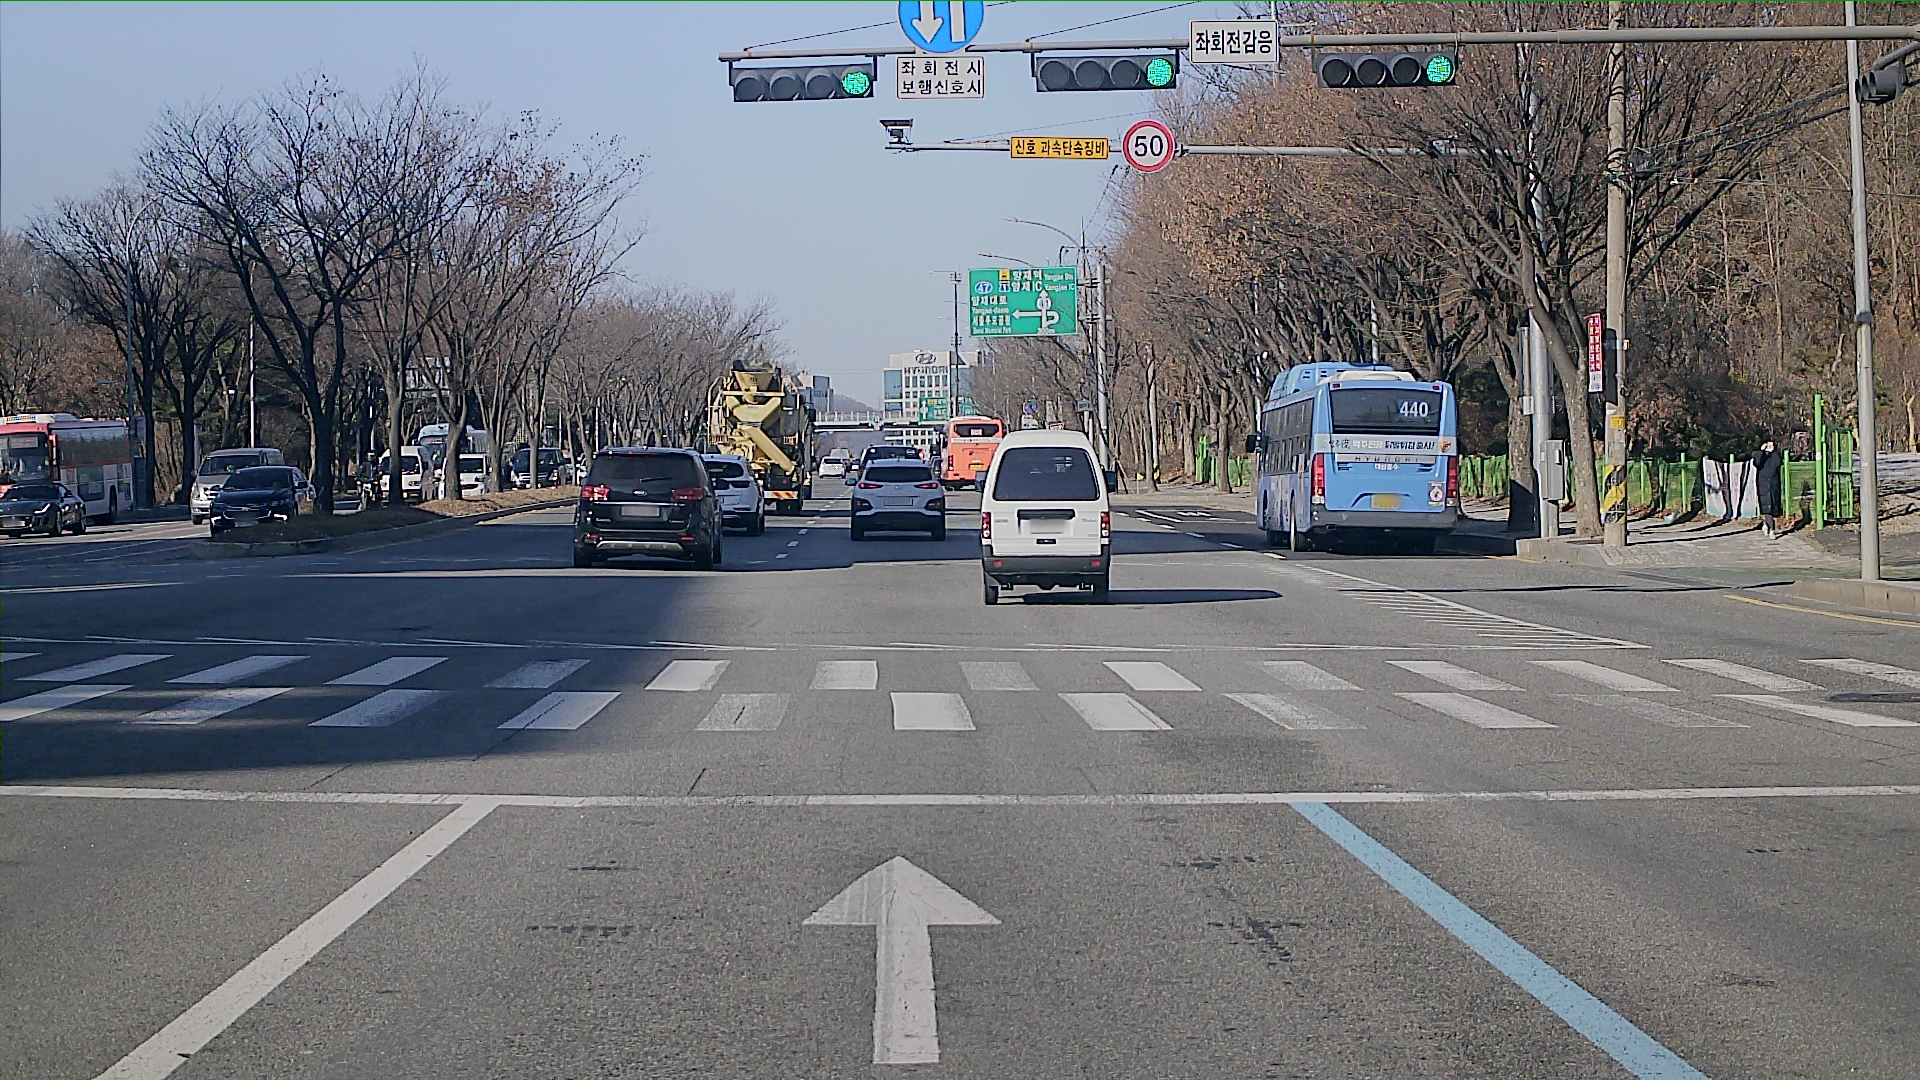trafficLight: (723, 53, 882, 102), (1029, 50, 1184, 94), (1312, 44, 1455, 88)
trafficSignCircle: (899, 1, 988, 57), (1121, 116, 1174, 171)
